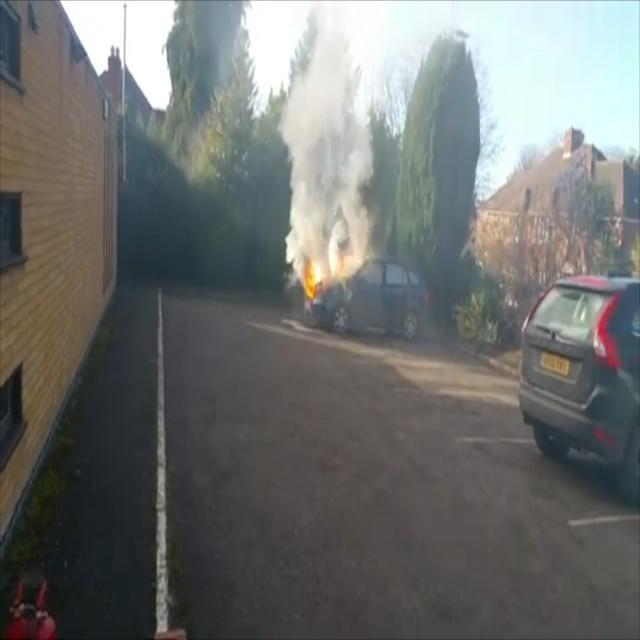fire: (298, 236, 358, 305)
